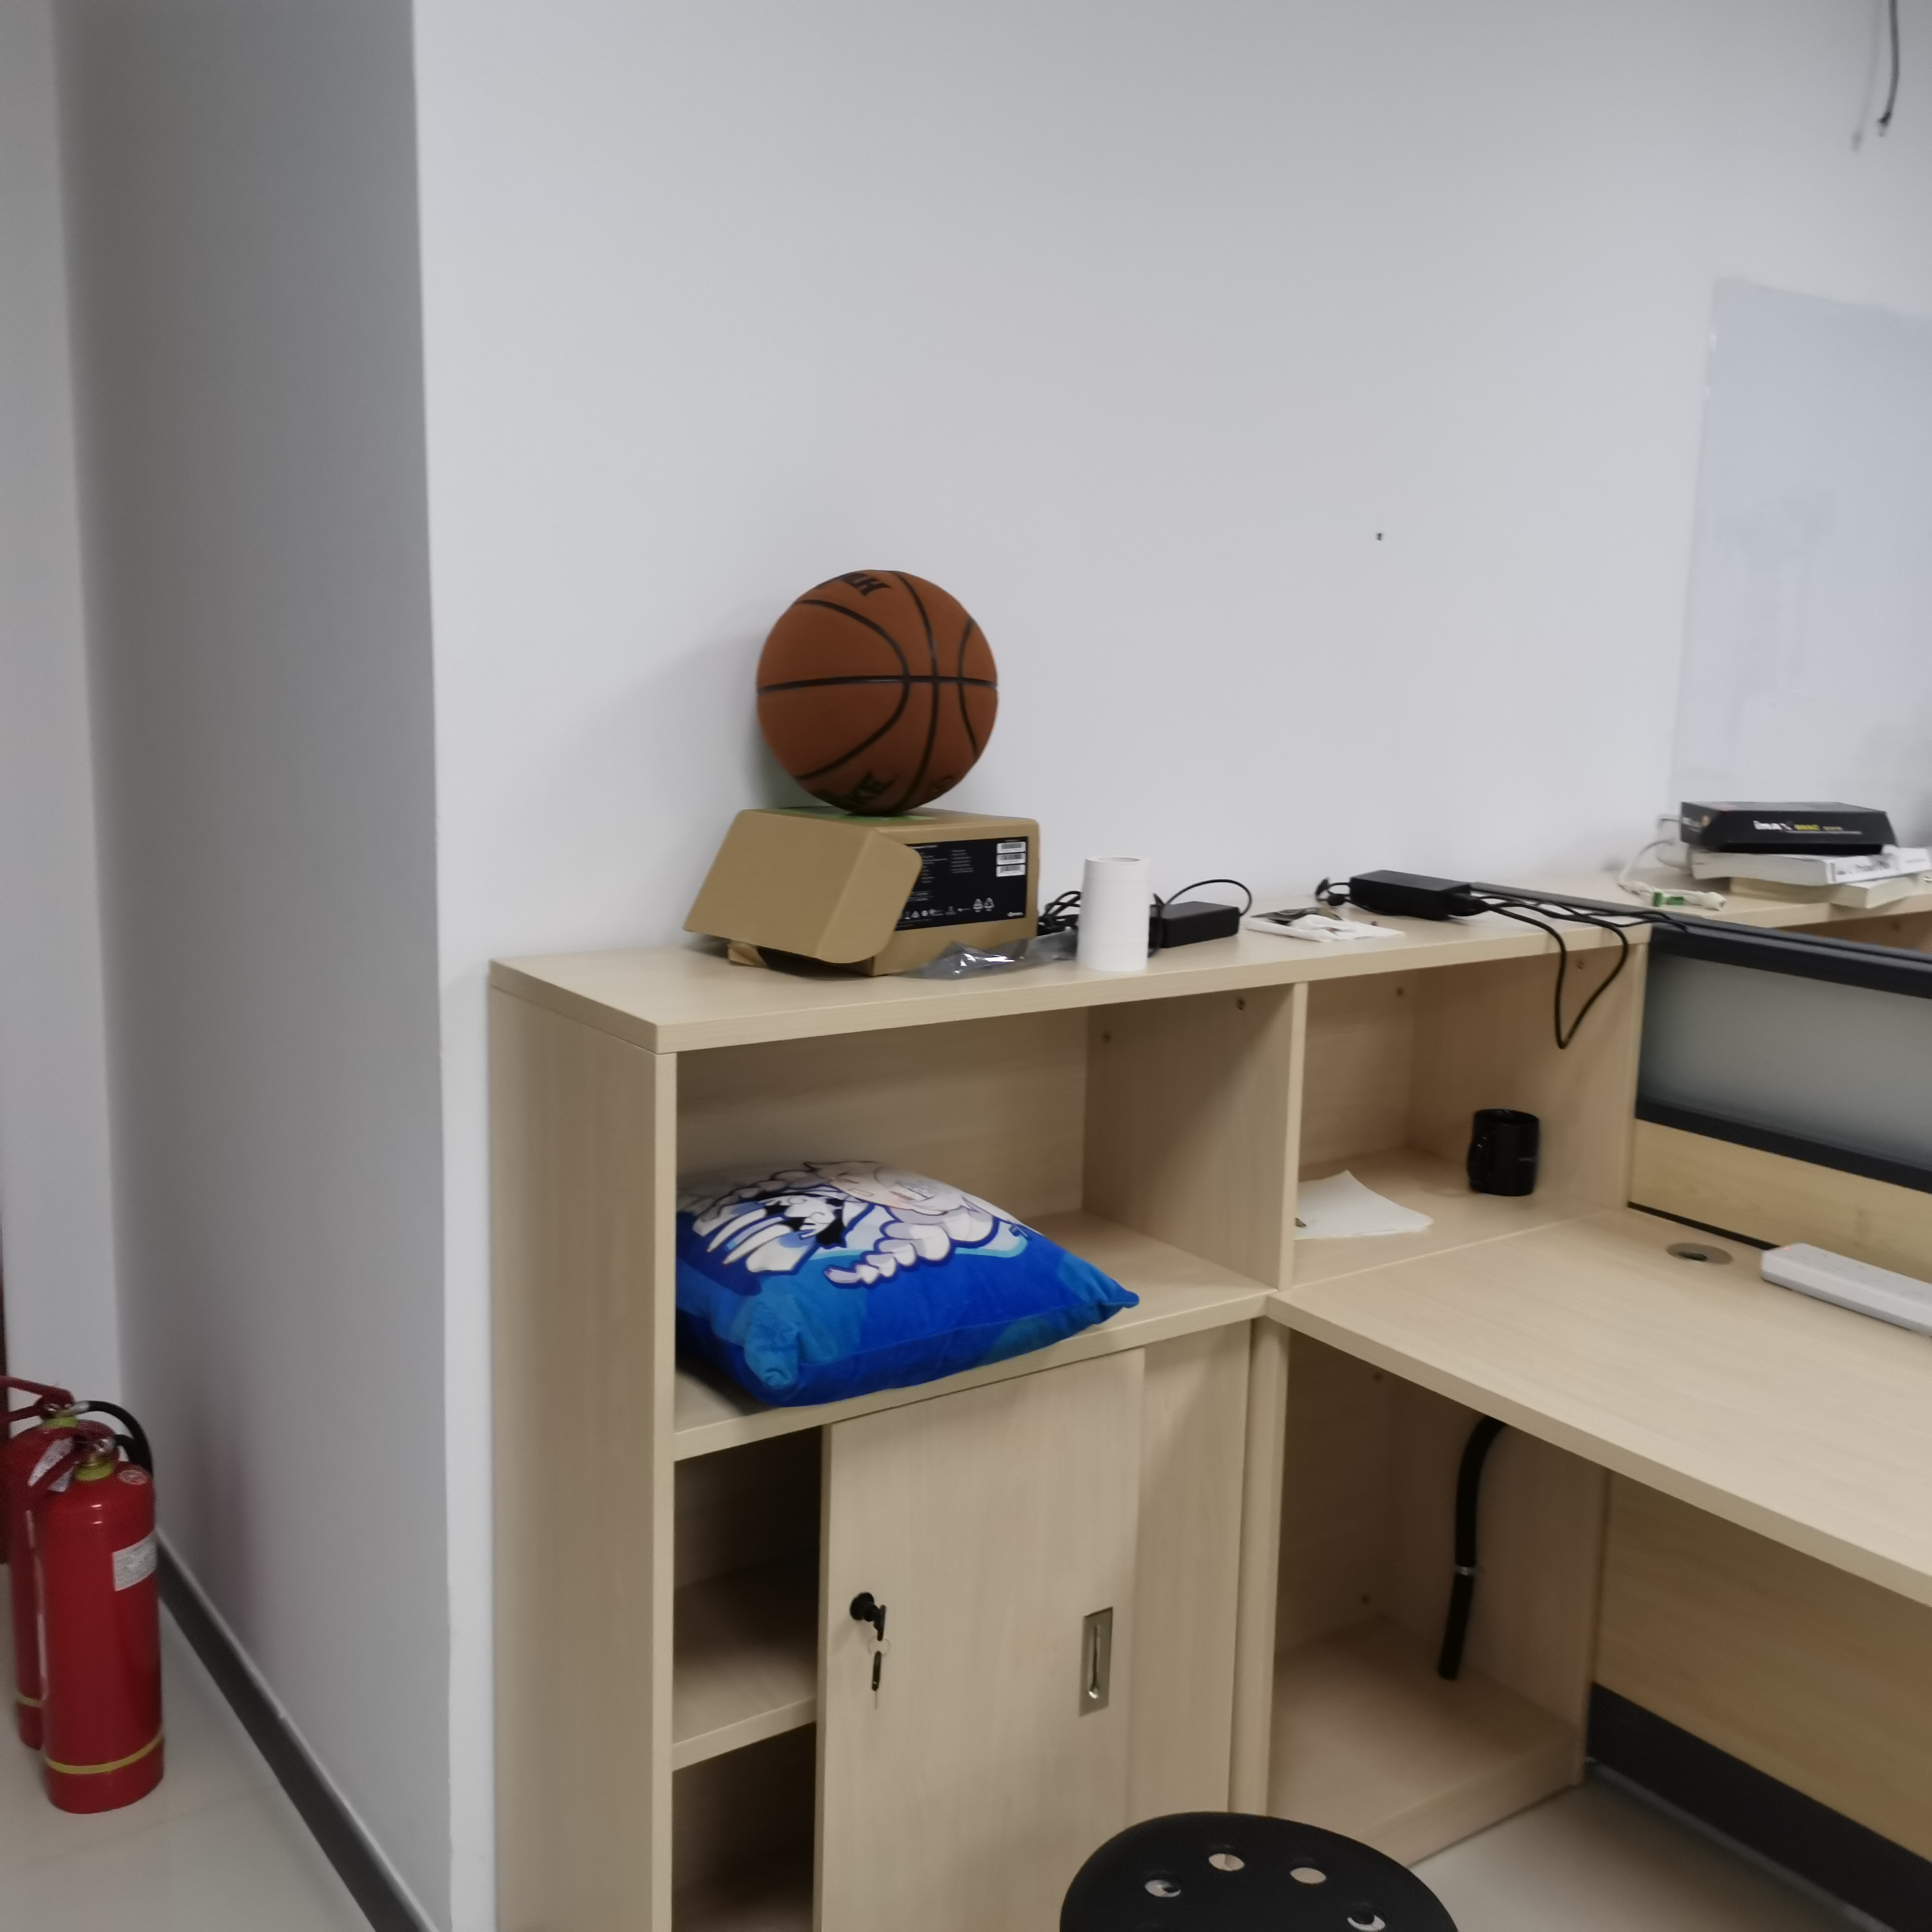basketball: (755, 570, 1000, 816)
